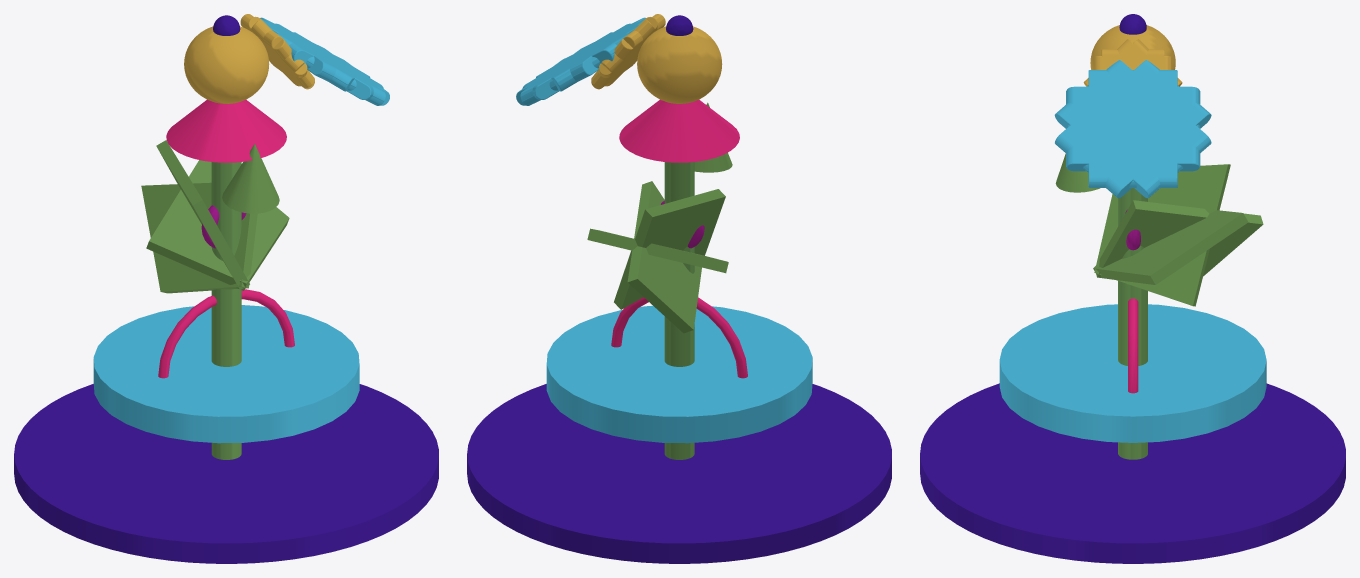
File: 0090_植物图鉴_牵牛.glb
3 renders of one model, left to right at view 1: azimuth 30°, elevation 25°; view 2: azimuth 150°, elevation 25°; view 3: azimuth 270°, elevation 25°, orthographic.
Visible parts, largest first — view 1: card_0090; view 2: card_0090; view 3: card_0090.
Part boxes in pixels (<box>): card_0090: <box>14,14,438,563</box>; card_0090: <box>467,14,891,563</box>; card_0090: <box>920,14,1345,563</box>.
Size of the model in its own units: 0.8416 by 1 by 0.8413.
